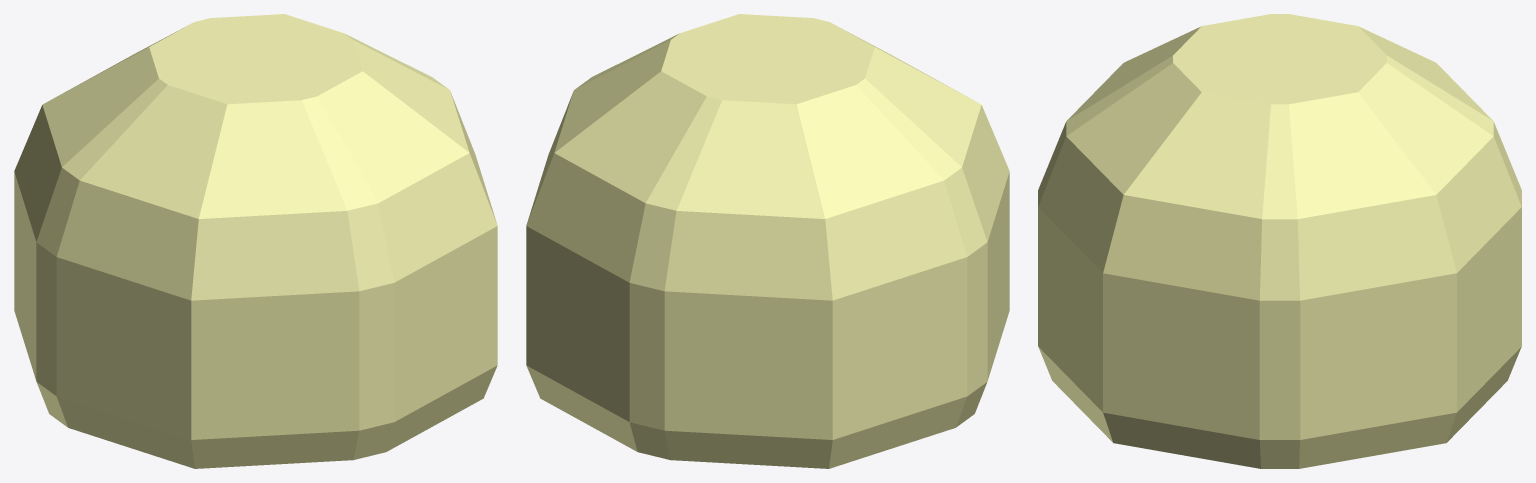
Rendered from lampBulb.fbx.
3 renders of one model, left to right at view 1: azimuth 30°, elevation 25°; view 2: azimuth 150°, elevation 25°; view 3: azimuth 270°, elevation 25°, orthographic.
Parts seen in each view (by area): view 1: LampBulb; view 2: LampBulb; view 3: LampBulb.
Boxes of the visible parts, x1=… form: LampBulb: x1=14, y1=14, x2=497, y2=468; LampBulb: x1=526, y1=14, x2=1009, y2=468; LampBulb: x1=1038, y1=14, x2=1521, y2=468.
Size of the model in its own units: 85.91 by 61.46 by 85.91.
